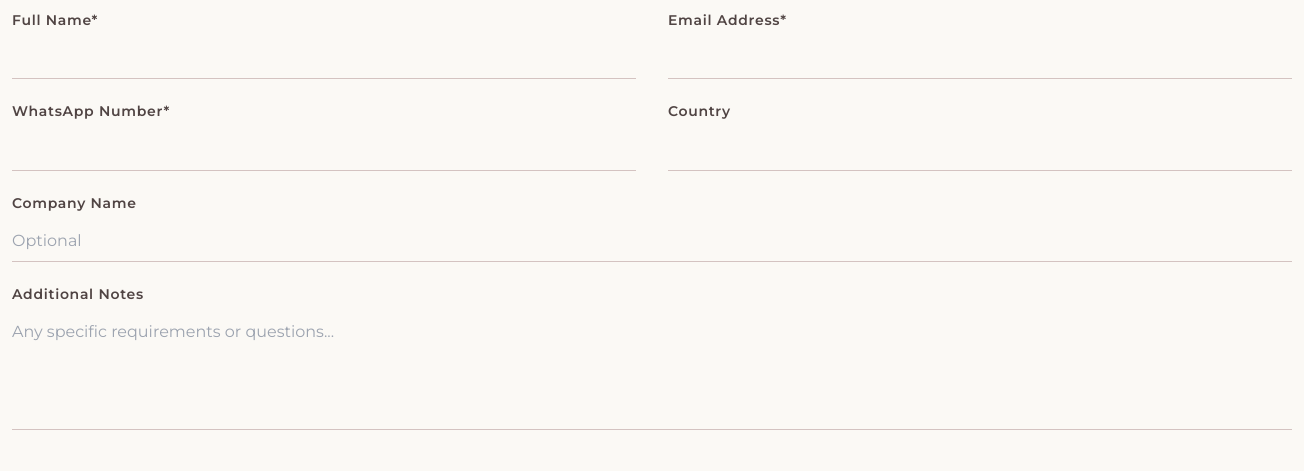
it: QuoteContactForm › shows error for invalid email on blur
Type "not-valid" into the field labelled "Email Address*" at (980, 58), box [668, 37, 1292, 79]
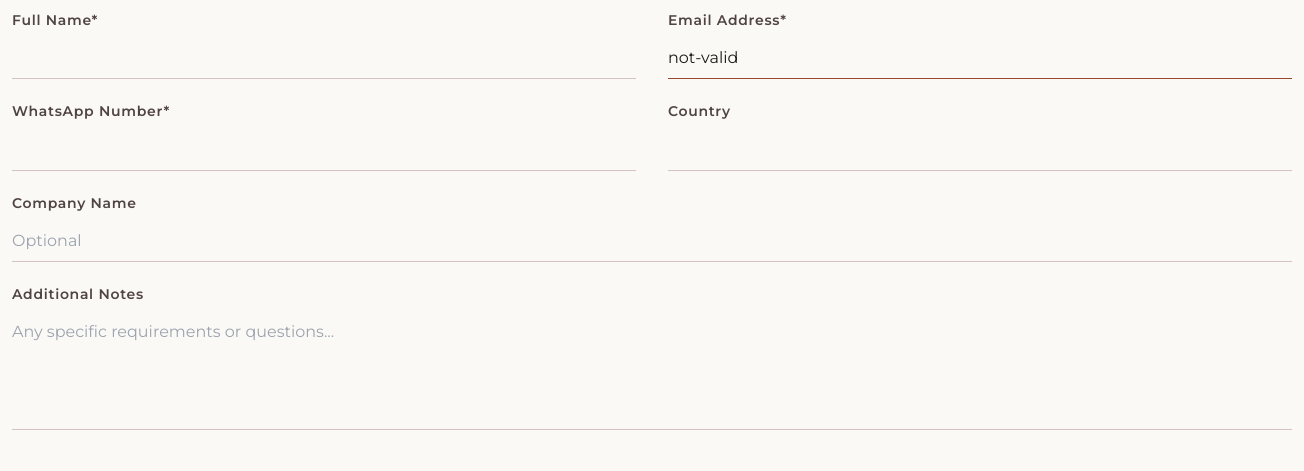
Press Tab
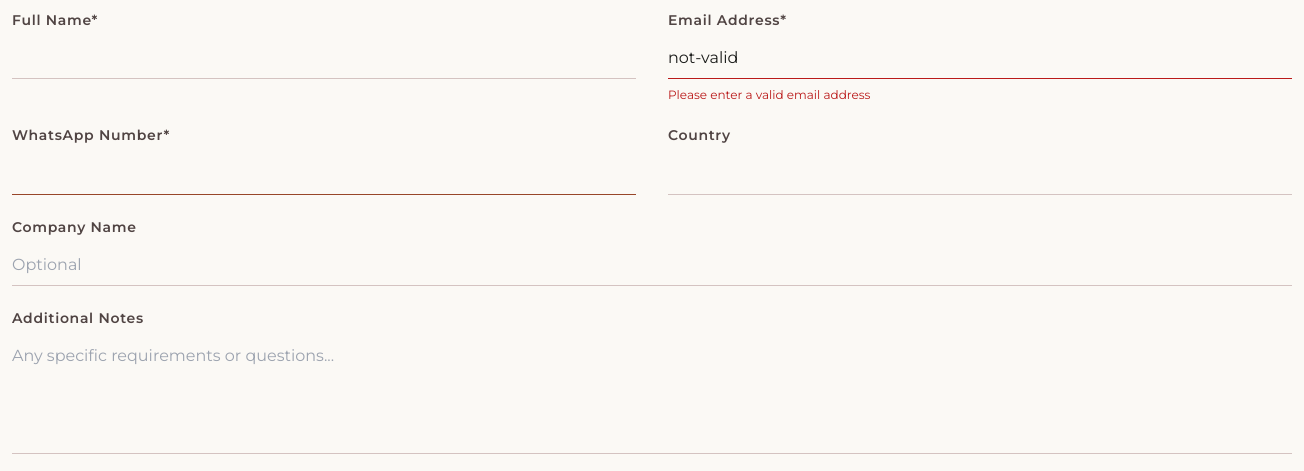
Expected: the text "Please enter a valid email address" is shown, [668, 87, 870, 102]
